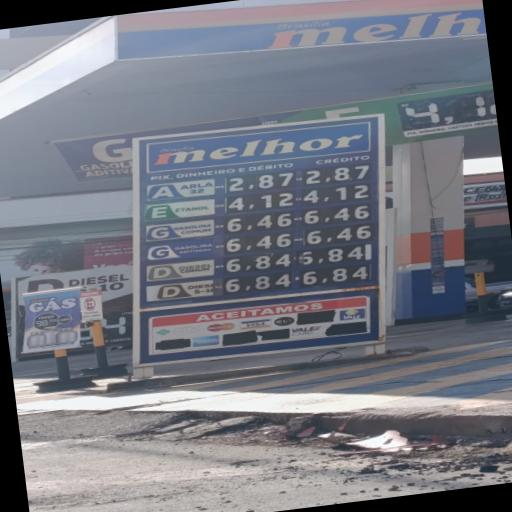ETANOL: (145, 198, 215, 221)
GASOLINA AD: (146, 239, 218, 260)
GASOLINA C: (144, 220, 220, 244)
S500: (148, 258, 216, 281), (151, 279, 221, 299)
placa: (135, 179, 380, 310)
preco: (224, 270, 295, 296), (224, 251, 296, 274), (224, 211, 299, 233), (228, 189, 296, 213), (225, 231, 297, 252)
